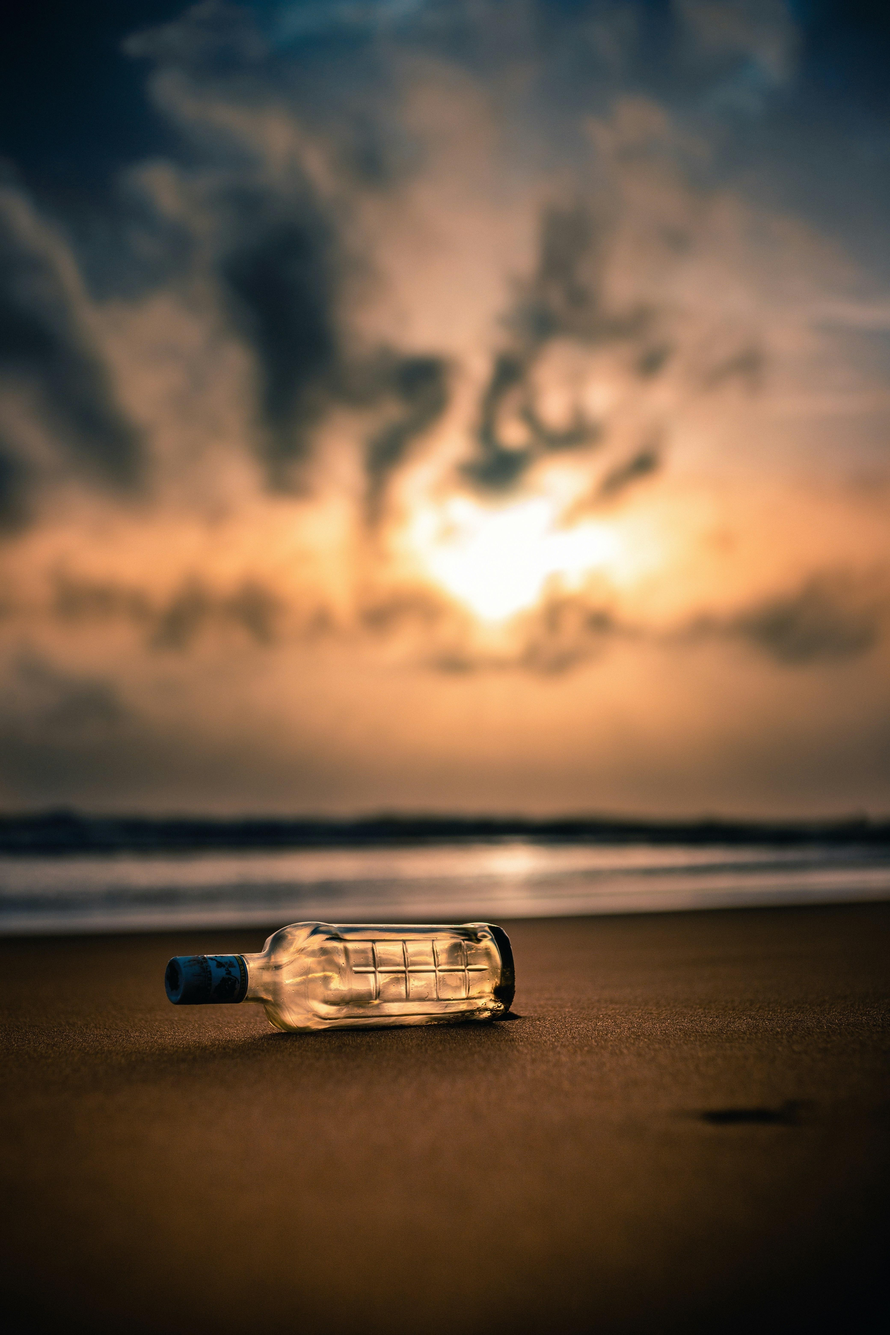Bottle-Detection: (124, 864, 578, 1089)
